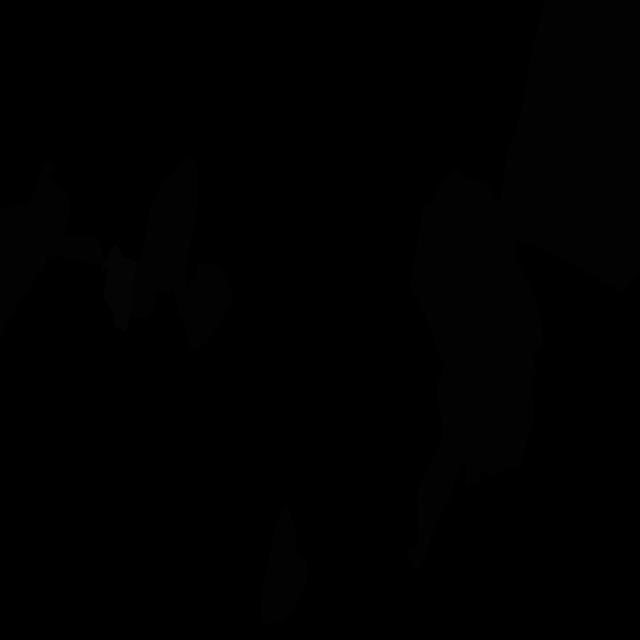cardboard: (409, 167, 544, 480), (500, 0, 640, 293), (0, 161, 70, 337), (132, 156, 198, 318), (466, 356, 536, 486), (406, 445, 454, 570), (261, 504, 308, 627), (178, 263, 233, 352), (472, 181, 517, 257), (43, 234, 104, 265)
soft_plastic: (102, 244, 139, 332)
